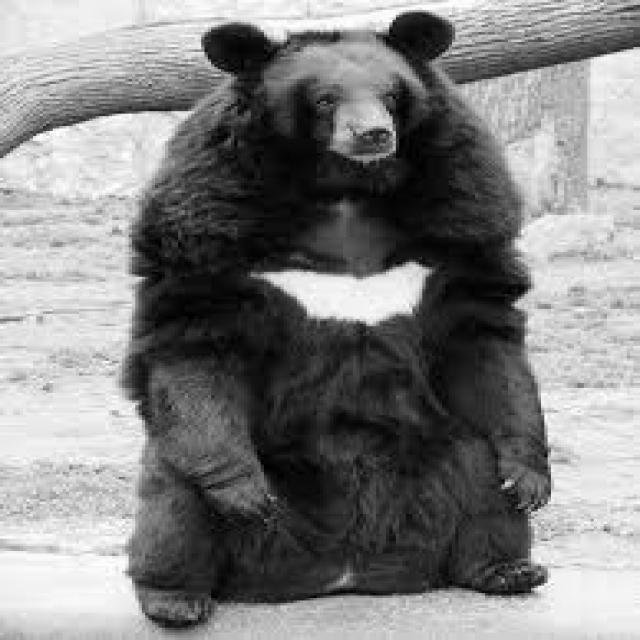Bear: (171, 21, 547, 603)
